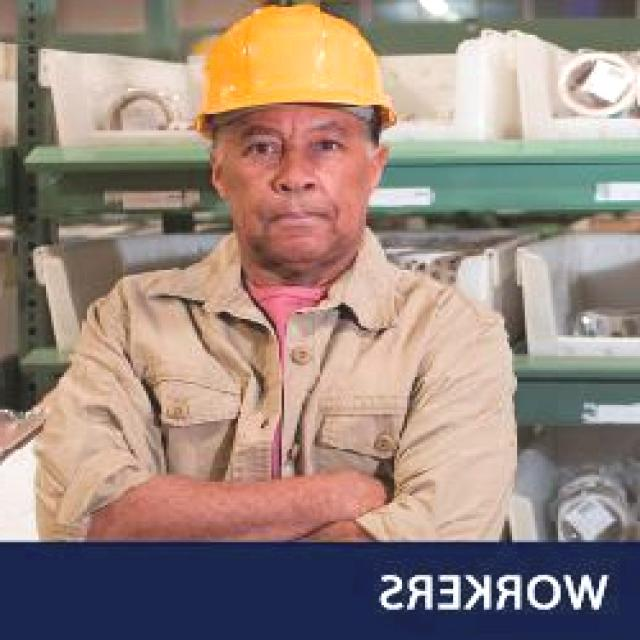face_nomask: (215, 104, 366, 260)
head_helmet: (161, 2, 407, 124)
person: (28, 2, 533, 547)
